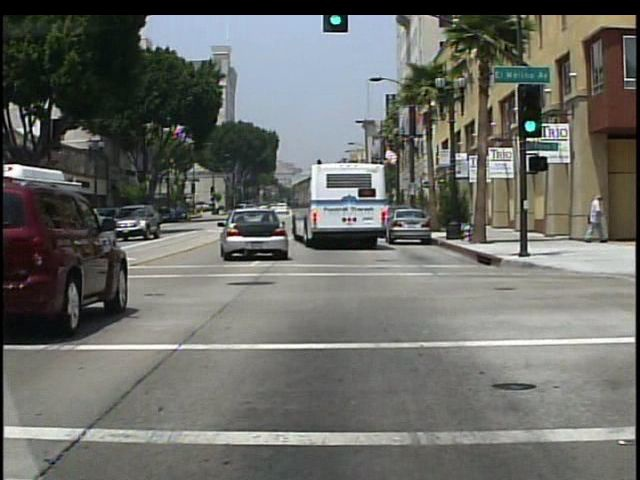person: (585, 193, 608, 245), (462, 193, 472, 232)
